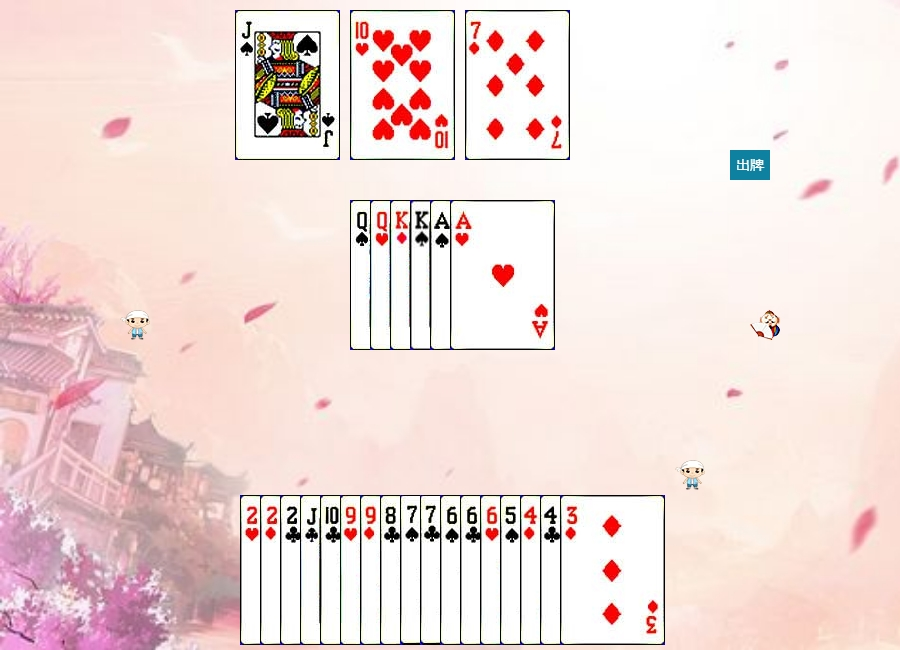10~2: (320, 495, 425, 645)
10~3: (350, 10, 455, 160)
11~2: (300, 495, 405, 645)
11~4: (235, 10, 340, 160)
12~3: (370, 200, 475, 350)
12~4: (350, 200, 455, 350)
13~1: (390, 200, 495, 350)
13~4: (410, 200, 515, 350)
14~3: (450, 200, 555, 350)
14~4: (430, 200, 535, 350)
15~1: (260, 495, 365, 645)
15~2: (280, 495, 385, 645)
15~3: (240, 495, 345, 645)
3~1: (560, 495, 665, 645)
4~1: (520, 495, 625, 645)
4~2: (540, 495, 645, 645)
5~4: (500, 495, 605, 645)
6~2: (460, 495, 565, 645)
6~3: (480, 495, 585, 645)
6~4: (440, 495, 545, 645)
7~1: (465, 10, 570, 160)
7~2: (420, 495, 525, 645)
7~4: (400, 495, 505, 645)
8~2: (380, 495, 485, 645)
9~1: (360, 495, 465, 645)
9~3: (340, 495, 445, 645)
